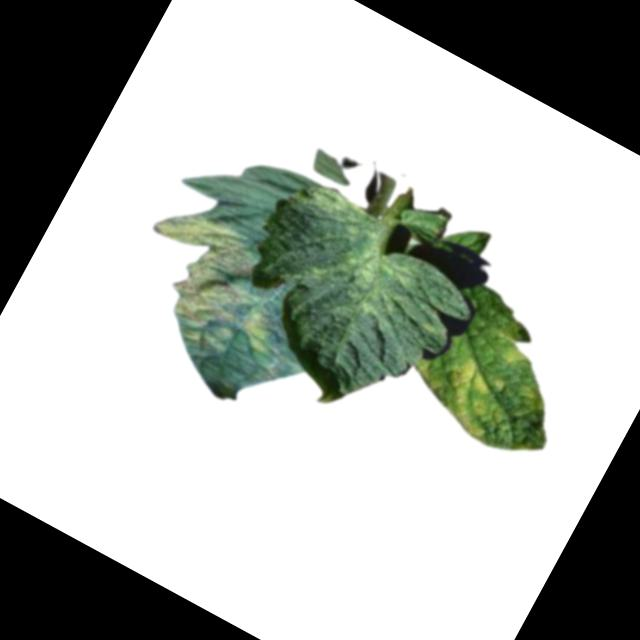Leaf_Mold: (113, 194, 314, 377), (404, 311, 564, 460)
